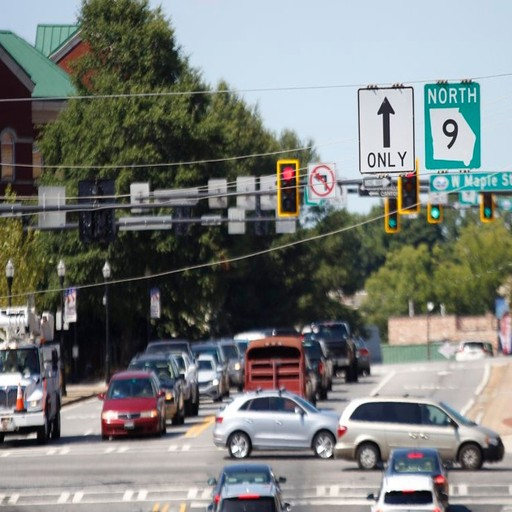car: (334, 392, 508, 472), (211, 391, 345, 463), (97, 369, 174, 443)
truck: (1, 302, 64, 448)
